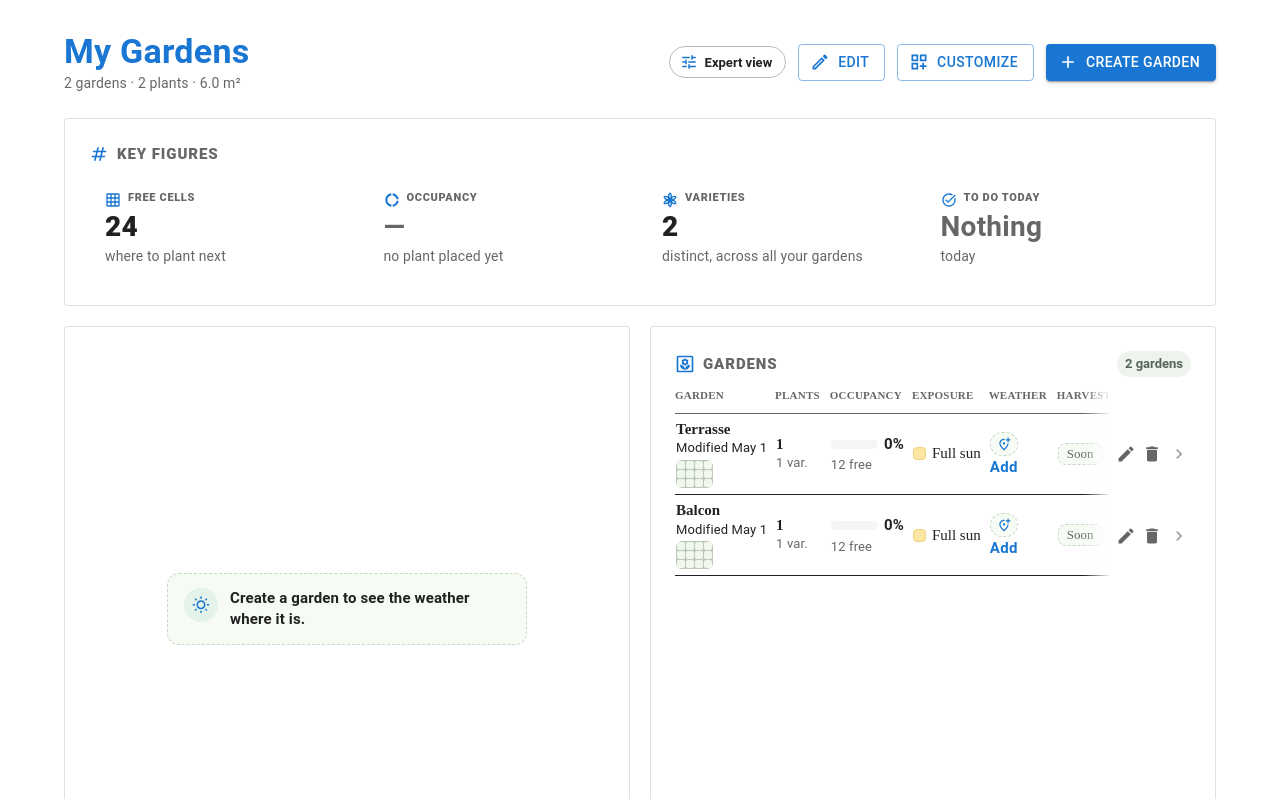
Test: the Counters widget options (artboard A8) › a widget with no settings still says so
# Same enabled-state wait as the helper above (round 1, E17).
Click the button "Edit" at {"x": 842, "y": 62}, box [798,44,885,81]
(page scrolled)
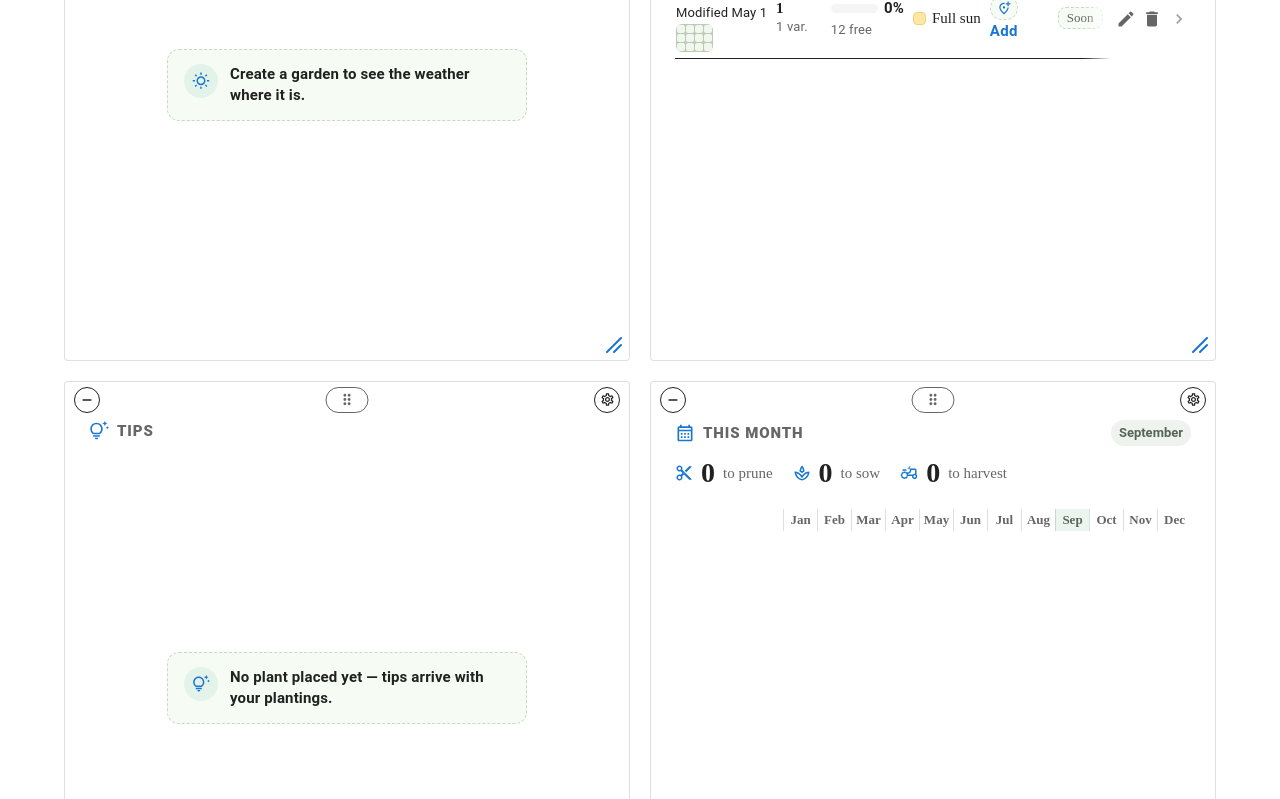
Click the button named "Tips options" at {"x": 607, "y": 400}, box [594,387,620,413]
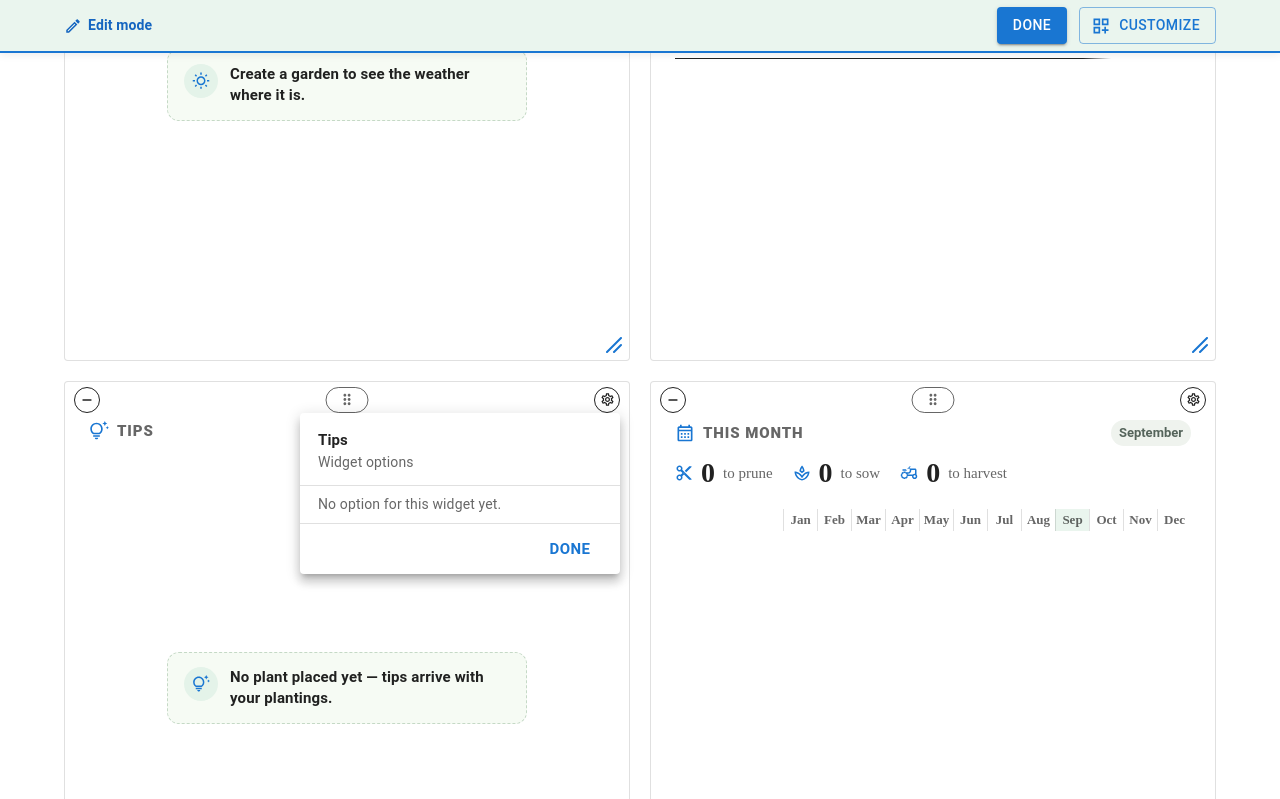
Result: the text "No option for this widget yet." is shown at [318,496,501,512]
